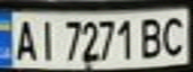1: (115, 16, 139, 61)
2: (78, 17, 100, 62)
7: (57, 17, 81, 62), (97, 17, 118, 62)
A: (9, 16, 39, 62)
B: (136, 15, 166, 60)
C: (157, 12, 190, 57)
I: (33, 16, 57, 62)
